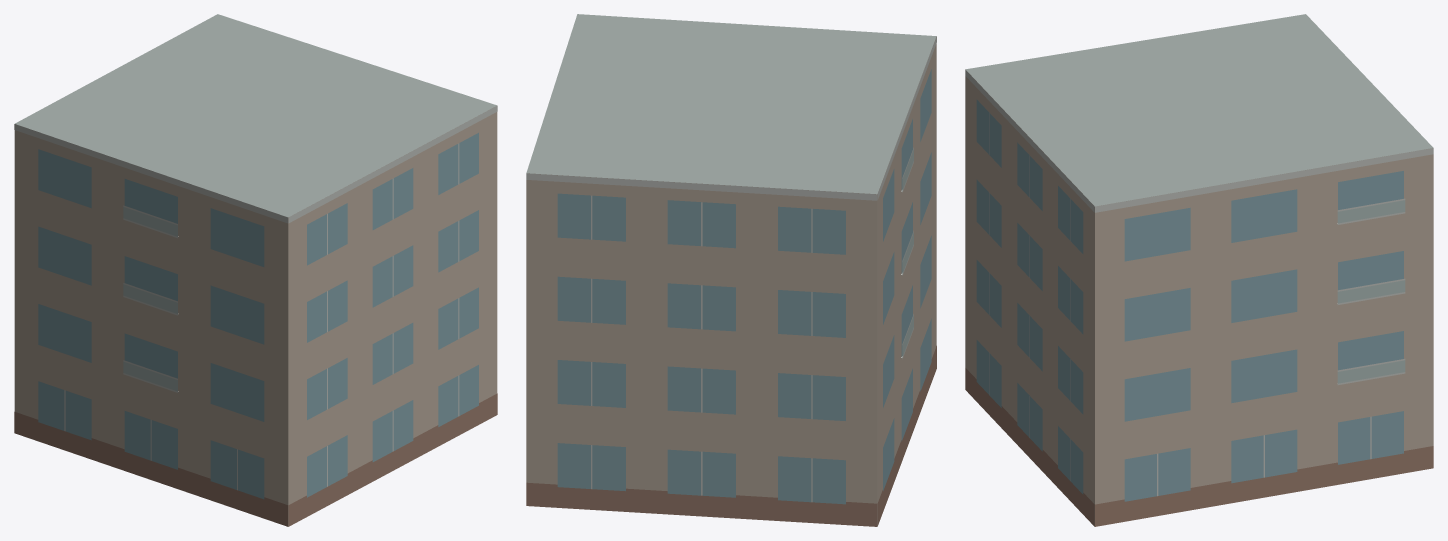
Rendered from survey-upis-32853847.glb.
3 renders of one model, left to right at view 1: azimuth 30°, elevation 25°; view 2: azimuth 150°, elevation 25°; view 3: azimuth 270°, elevation 25°, orthographic. The views are drawn at different scales.
Visible parts, largest first — view 1: survey-upis-32853847.tmp; view 2: survey-upis-32853847.tmp; view 3: survey-upis-32853847.tmp.
Boxes of the visible parts, x1,y1,x2,y2 form: survey-upis-32853847.tmp: (14,14,497,526); survey-upis-32853847.tmp: (526,14,936,526); survey-upis-32853847.tmp: (965,14,1433,526).
Bounding box in the file's own units: 15.86 × 12.3 × 16.31.
